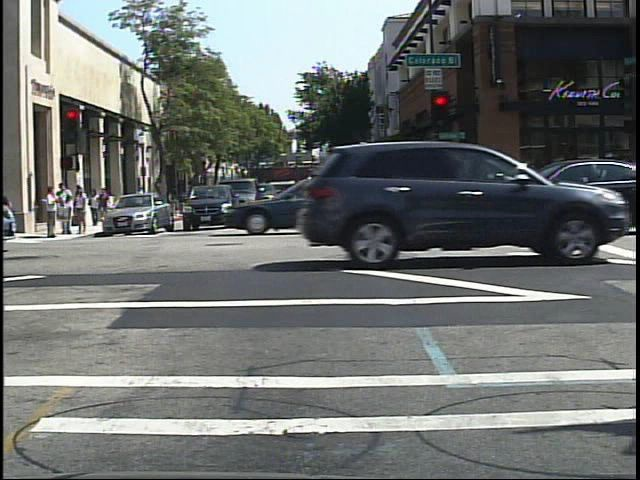person: (165, 182, 182, 219), (134, 183, 151, 219), (89, 187, 103, 228)
